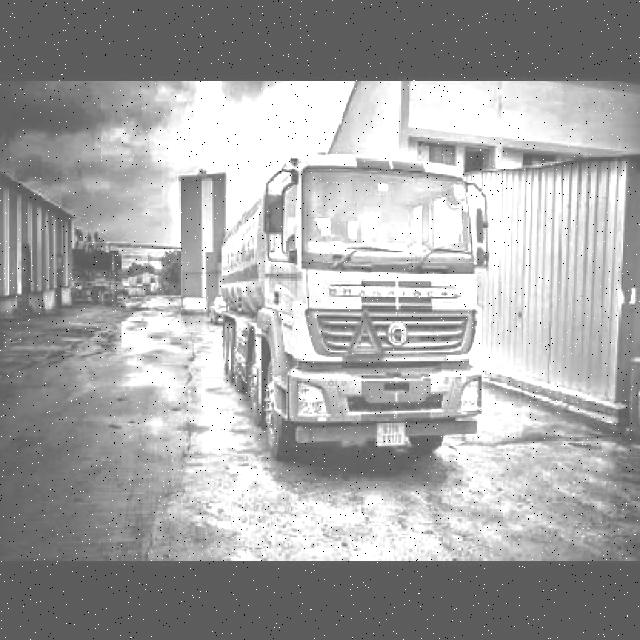HCV: (205, 186, 486, 456)
